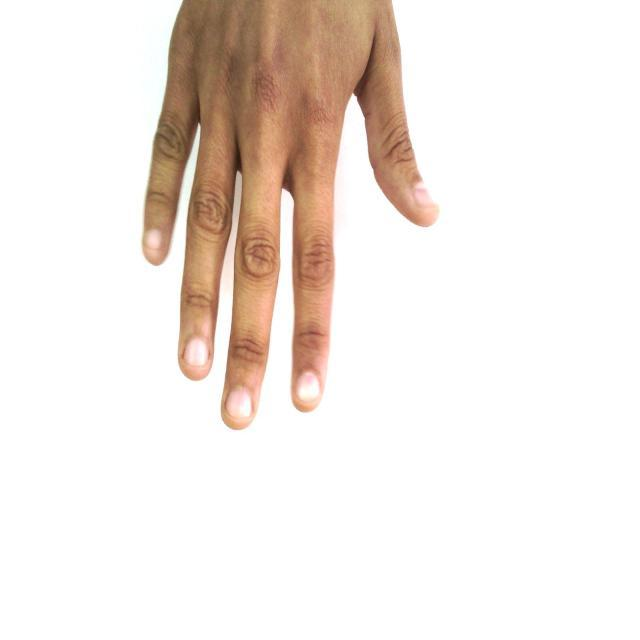Fingernail: (227, 388, 252, 418), (296, 373, 319, 403), (186, 339, 207, 365), (145, 230, 164, 254), (415, 186, 435, 208)
